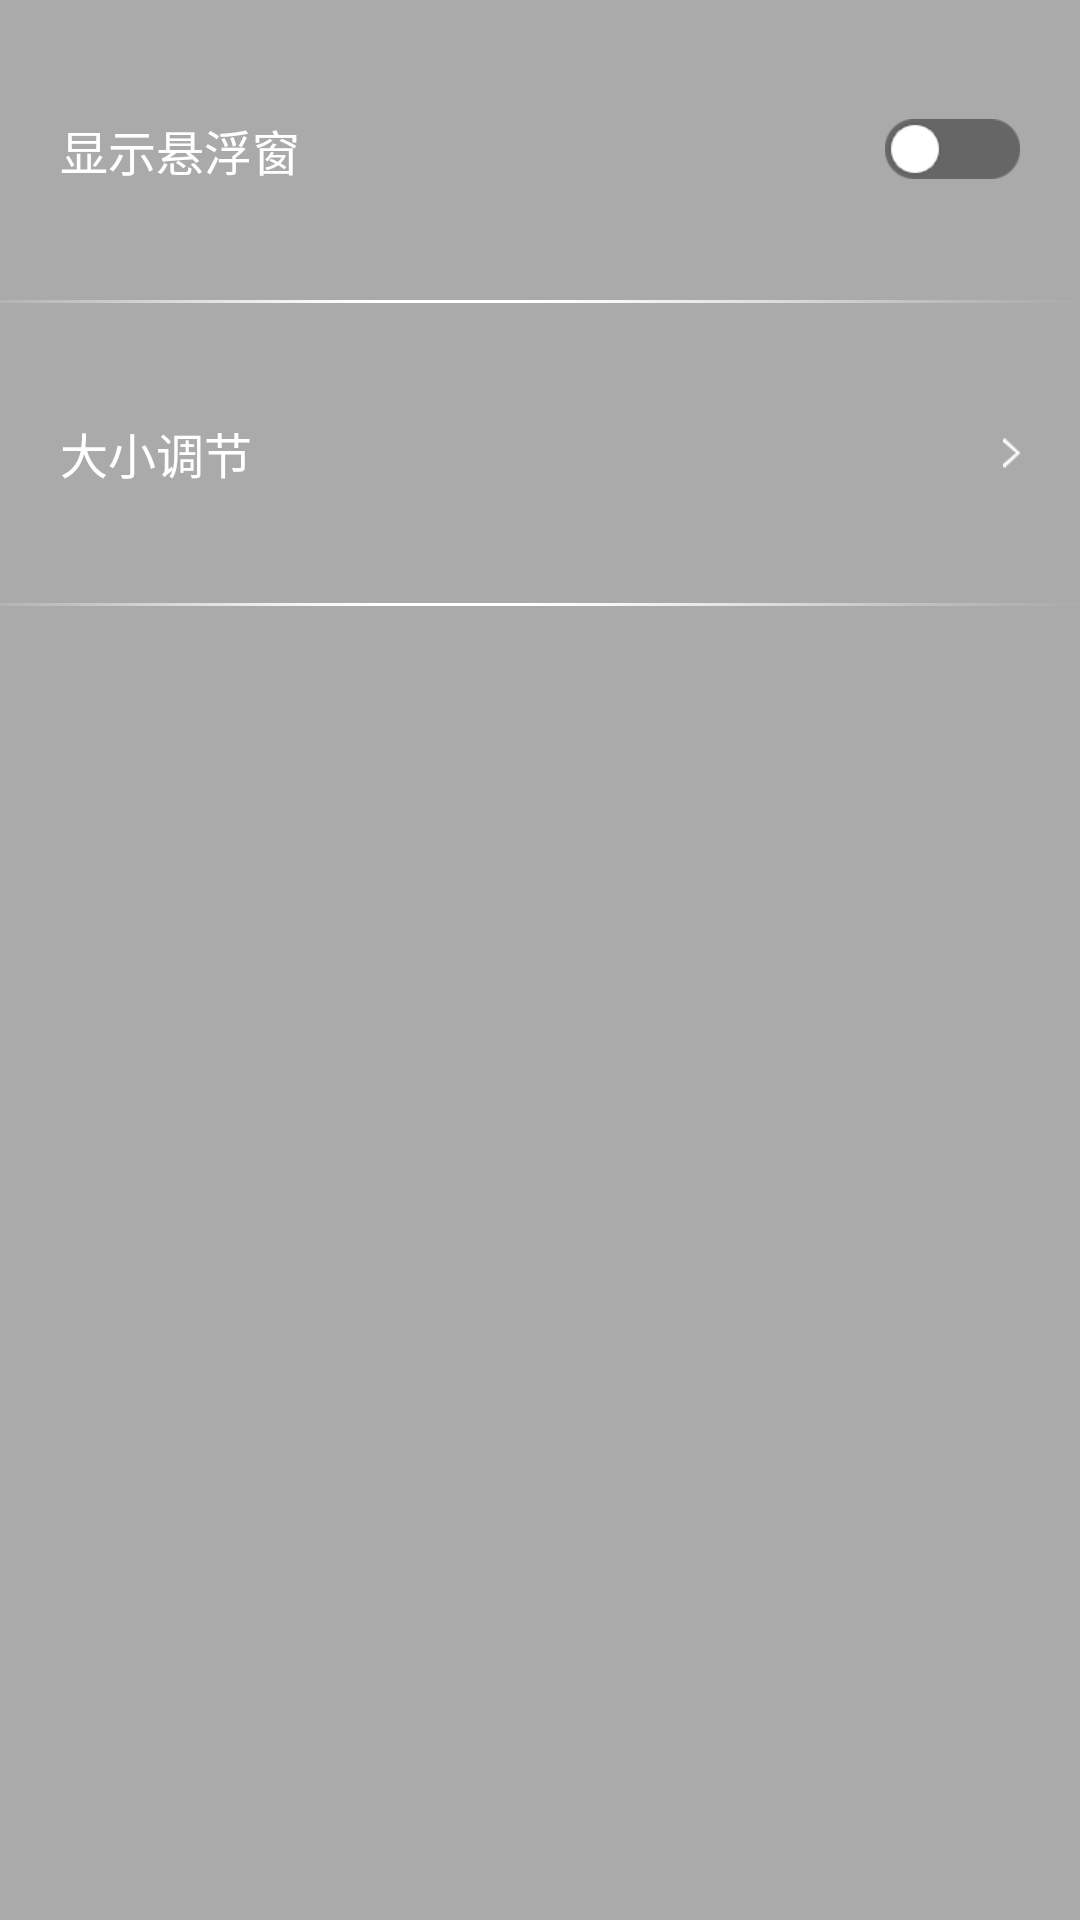

Icons on this 1080×1920 Android screen, each with its box as (x1=x1, y1=y1, x2=x2, y2=y2):
switch: (x1=885, y1=119, x2=1020, y2=179)
